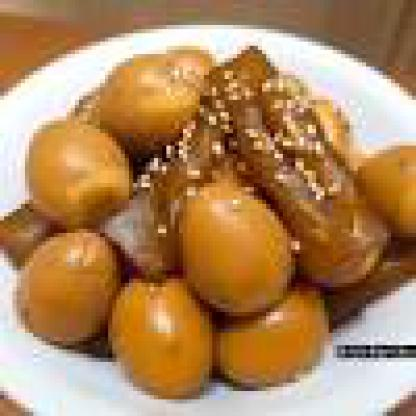janjorim: (21, 46, 387, 370)
